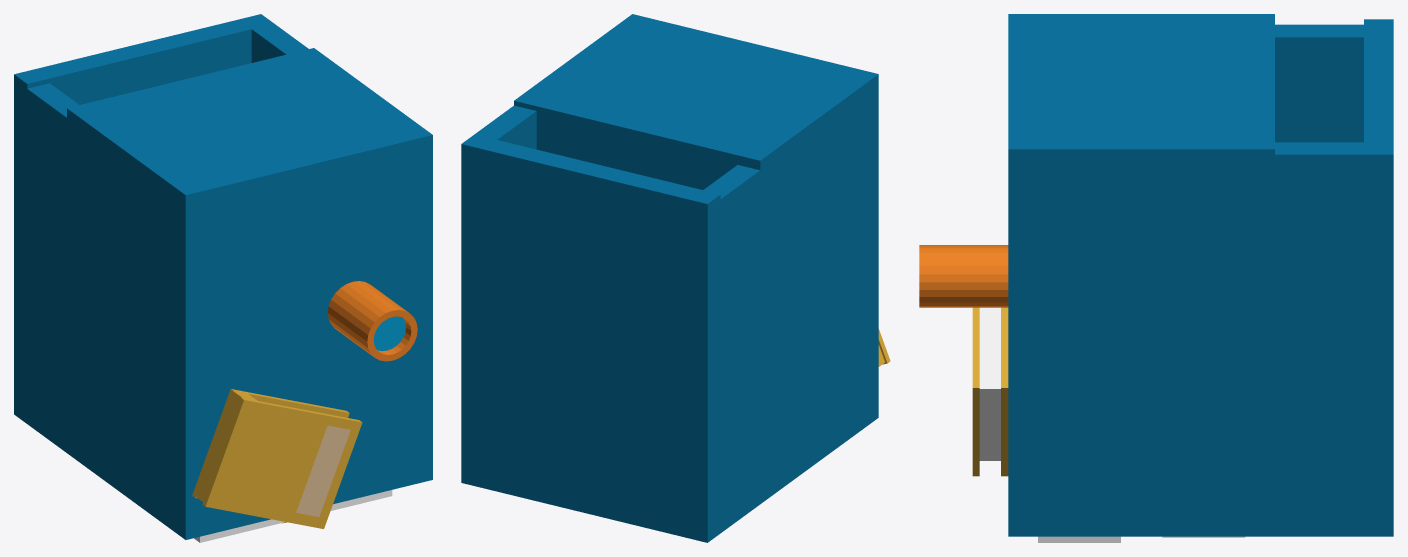
File: tinker.obj
3 renders of one model, left to right at view 1: azimuth 30°, elevation 25°; view 2: azimuth 150°, elevation 25°; view 3: azimuth 270°, elevation 25°, orthographic. The views are drawn at different scales.
Visible parts, largest first — view 1: group_0_30377, group_0_14789940, group_0_16089887, group_0_14860437, group_0_16448250, group_0_40919; view 2: group_0_30377; view 3: group_0_30377, group_0_16089887, group_0_16448250, group_0_14789940.
Part boxes in pixels (x1=…): group_0_30377: x1=14, y1=14, x2=432, y2=539; group_0_14789940: x1=192, y1=389, x2=362, y2=528; group_0_16089887: x1=327, y1=281, x2=417, y2=361; group_0_14860437: x1=296, y1=425, x2=350, y2=516; group_0_16448250: x1=194, y1=490, x2=392, y2=542; group_0_40919: x1=373, y1=316, x2=405, y2=351; group_0_30377: x1=461, y1=14, x2=878, y2=542; group_0_30377: x1=1008, y1=14, x2=1393, y2=536; group_0_16089887: x1=919, y1=245, x2=1008, y2=307; group_0_16448250: x1=979, y1=307, x2=1245, y2=542; group_0_14789940: x1=972, y1=307, x2=1008, y2=476.
Bounding box in the file's own units: 54 × 79 × 80.
